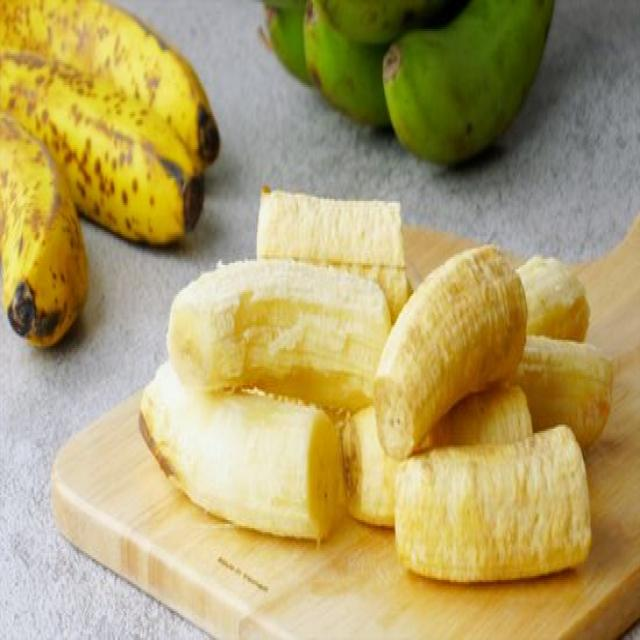platano: (140, 264, 621, 583)
